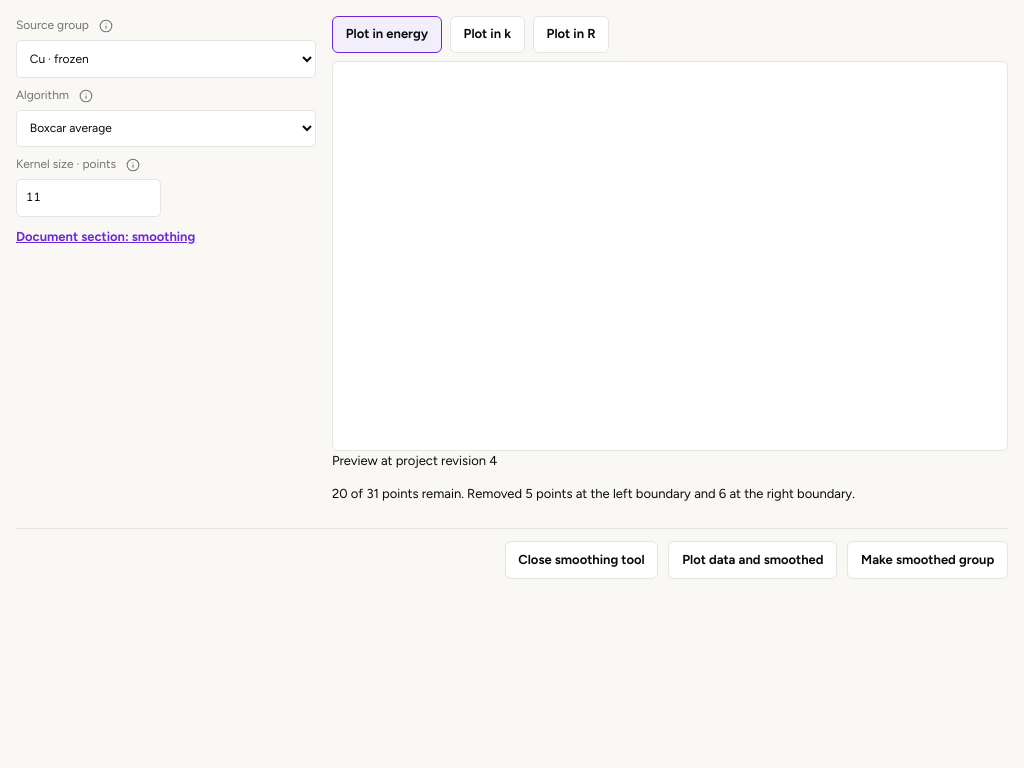
Test case: blocks gaussian settings above the supported bounds before preview
Expected: the button "Make smoothed group" is enabled, [847,541,1008,579]
Select "Gaussian filter" in the dropdown labelled "Algorithm": (166, 128) [16,110,316,147]
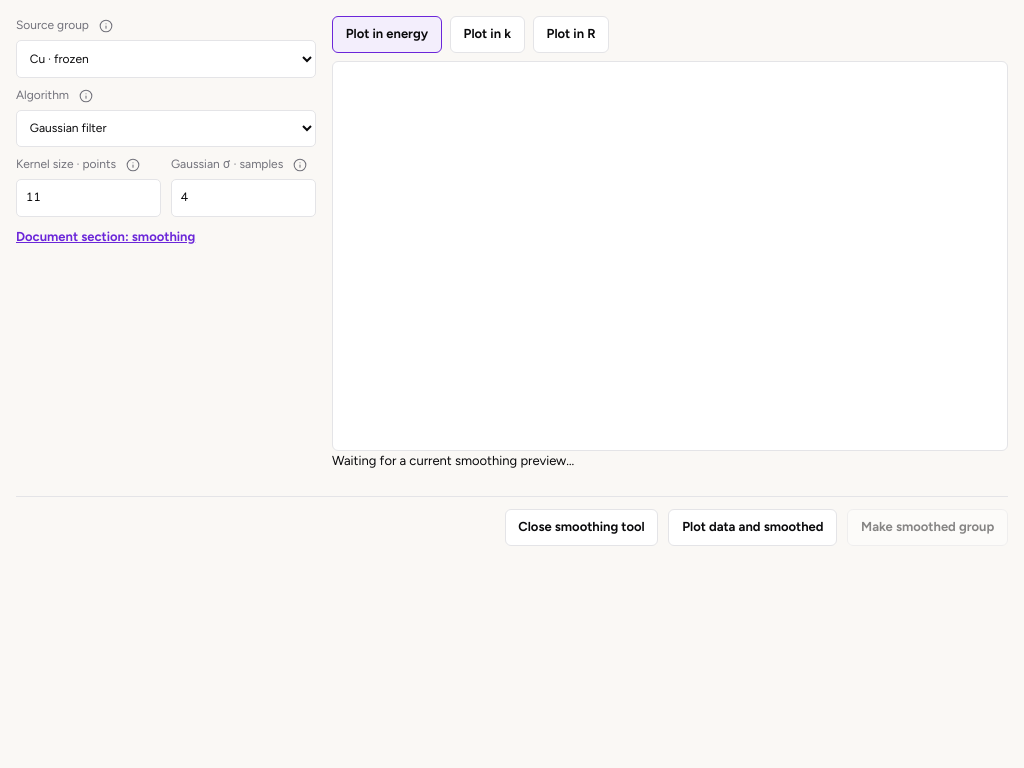
Replace the text in the number field labelled "Gaussian σ · samples" with "1001": (244, 198) [171,179,316,217]
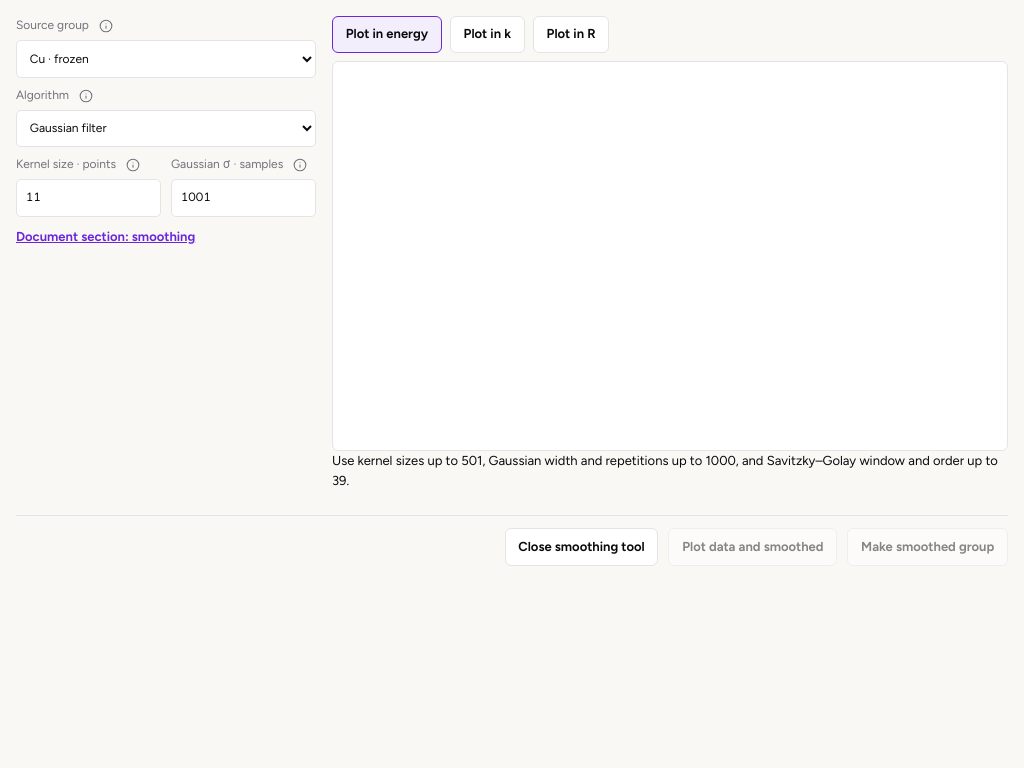
Now the button "Make smoothed group" is disabled, box [847,528,1008,566]
Now the button "Plot data and smoothed" is disabled, box [668,528,837,566]
Now the message shows "Use kernel sizes up to 501", box [332,453,998,488]
